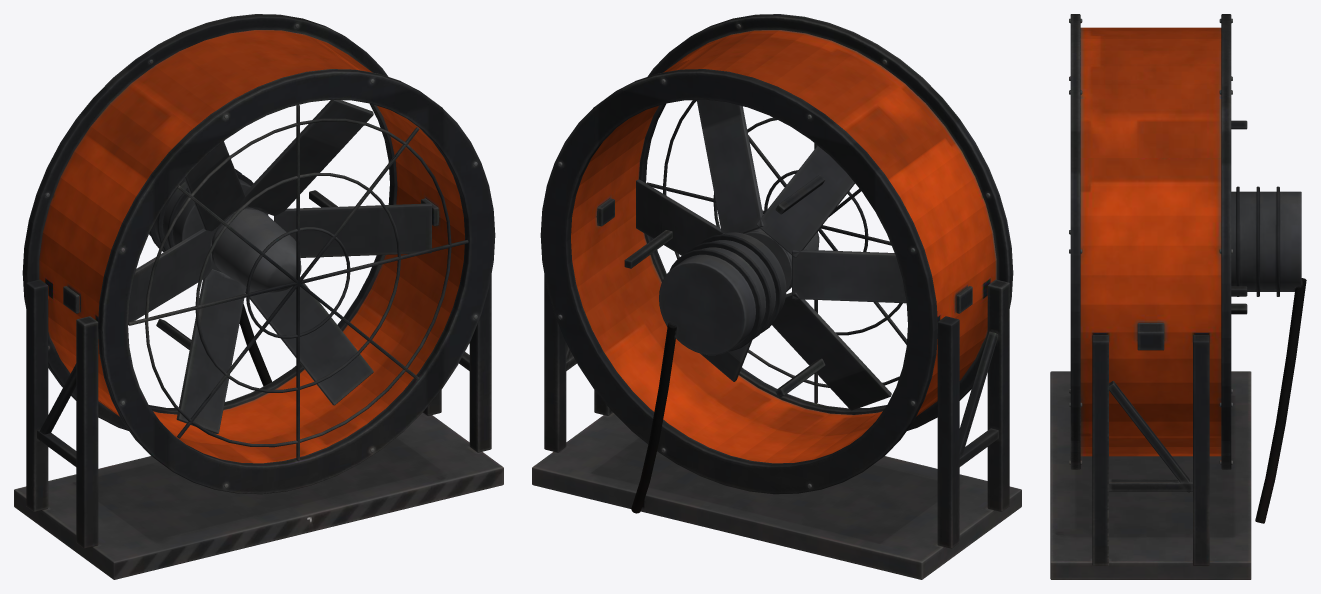
File: air_fan.glb
3 views of the same model, side by side, from view 1: azimuth 30°, elevation 25°; view 2: azimuth 150°, elevation 25°; view 3: azimuth 270°, elevation 25° (orthographic).
Visible parts, largest first — view 1: air_fan; view 2: air_fan; view 3: air_fan.
Part boxes in pixels (box(x1,y1,x2,y2)): air_fan: box(14, 14, 503, 579); air_fan: box(532, 14, 1021, 579); air_fan: box(1050, 14, 1306, 579).
Bounding box in the file's own units: 2.82 × 2.96 × 1.53.
Materials: 1 (1 with a texture image).
